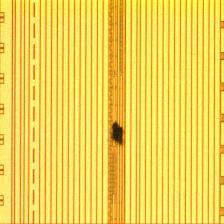PARTICLE: (111, 121, 126, 148)
